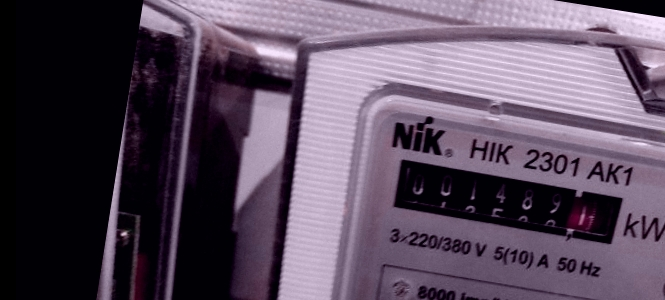0: (409, 170, 428, 197), (437, 170, 456, 197)
1: (465, 173, 483, 204), (574, 197, 591, 228)
4: (492, 179, 512, 207)
8: (517, 183, 538, 212)
9: (546, 189, 565, 216)
screen: (376, 145, 641, 260)
